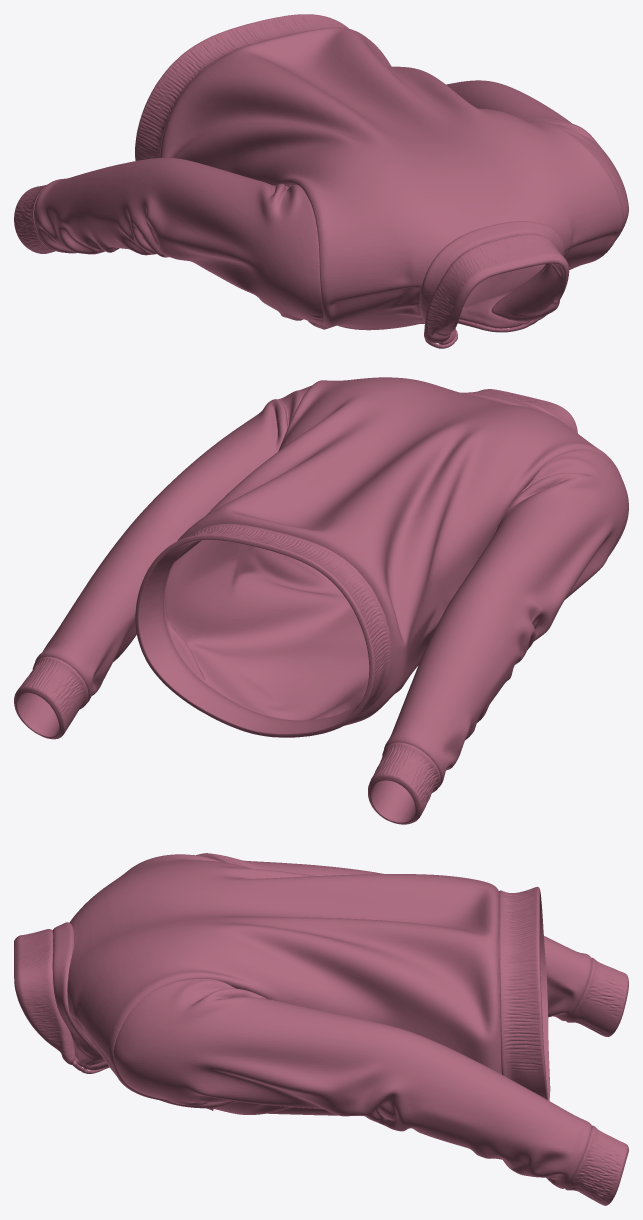
Rendered from chevalier-roth-halfzip-bordeaux.glb.
3 views of the same model, one above another, from view 1: azimuth 30°, elevation 25°; view 2: azimuth 150°, elevation 25°; view 3: azimuth 270°, elevation 25° (orthographic).
Visible parts, largest first — view 1: remeshy_print_1793551640141.stl; view 2: remeshy_print_1793551640141.stl; view 3: remeshy_print_1793551640141.stl.
Boxes of the visible parts, left/top/right/bottom form: remeshy_print_1793551640141.stl: left=14, top=14, right=628, bottom=348; remeshy_print_1793551640141.stl: left=14, top=377, right=628, bottom=824; remeshy_print_1793551640141.stl: left=14, top=853, right=628, bottom=1205.
Bounding box in the file's own units: 2.42 × 1.27 × 3.2.
